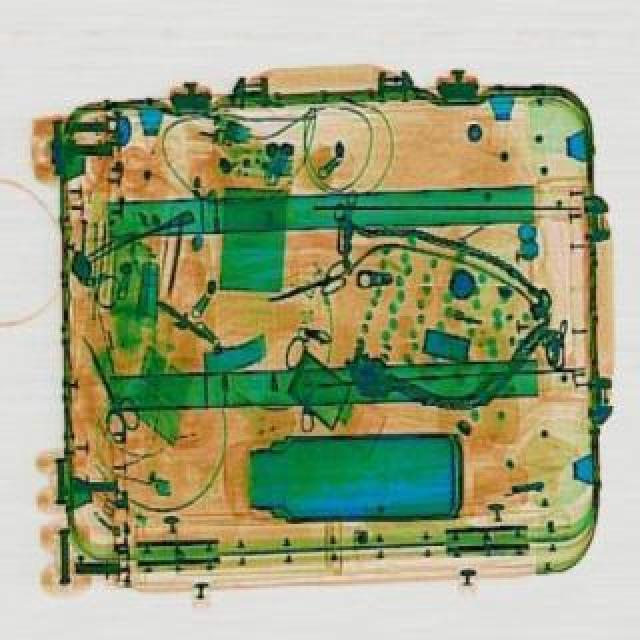pliers: (66, 334, 154, 450), (264, 264, 360, 320)
